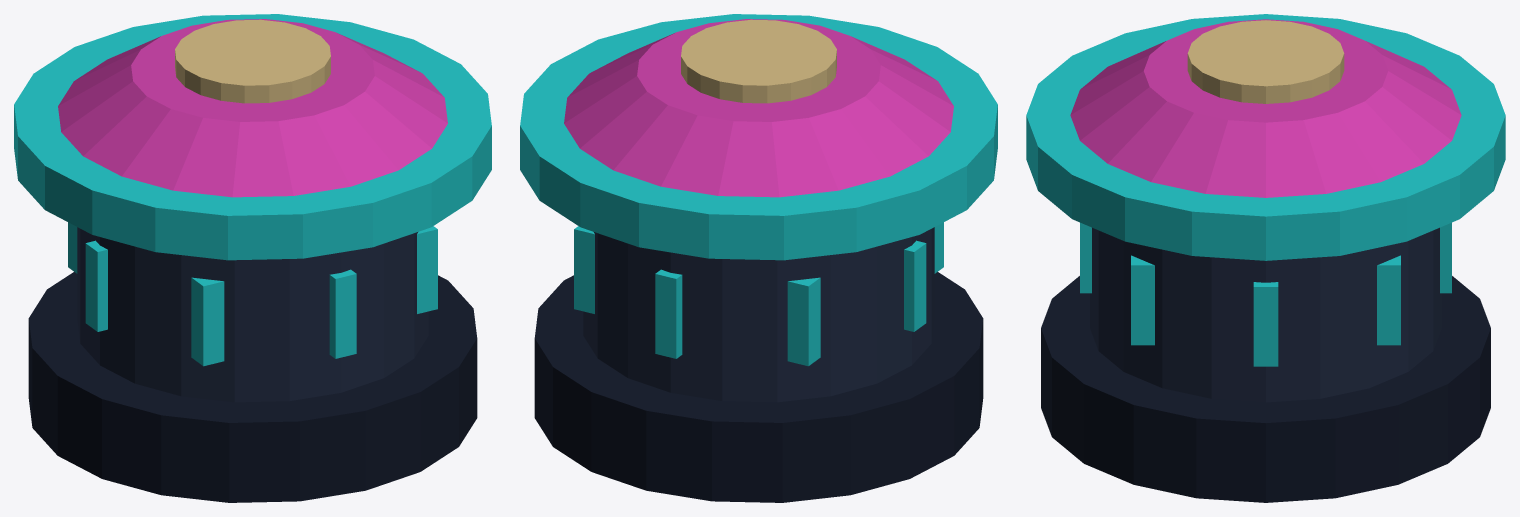
The model's file is Neon_PinballBumper_Showcase.glb.
The picture shows the model from 3 angles, left to right: view 1: azimuth 30°, elevation 25°; view 2: azimuth 150°, elevation 25°; view 3: azimuth 270°, elevation 25°; orthographic projection.
Parts seen in each view (by area): view 1: Neon_PinballBumper_Showcase; view 2: Neon_PinballBumper_Showcase; view 3: Neon_PinballBumper_Showcase.
Boxes of the visible parts, x1,y1,x2,y2 form: Neon_PinballBumper_Showcase: [14, 14, 491, 502]; Neon_PinballBumper_Showcase: [520, 14, 997, 502]; Neon_PinballBumper_Showcase: [1026, 14, 1505, 502].
Size of the model in its own units: 0.98 by 0.8 by 0.98.
